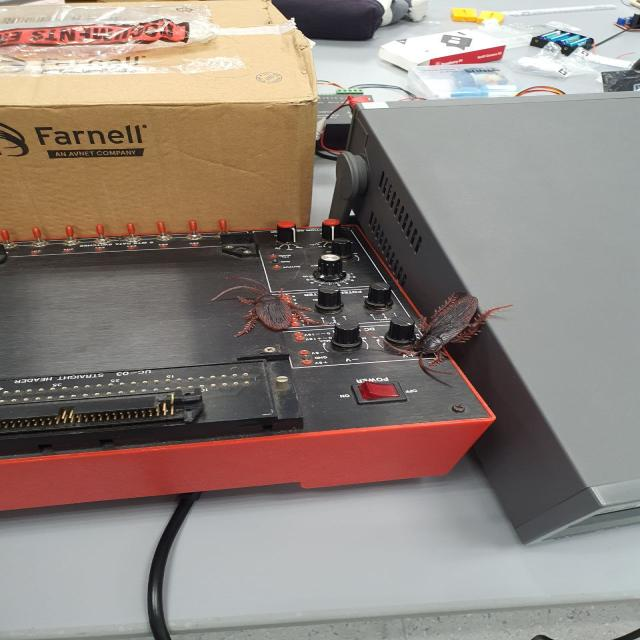Cockroach: (381, 282, 507, 378), (214, 267, 322, 343)
